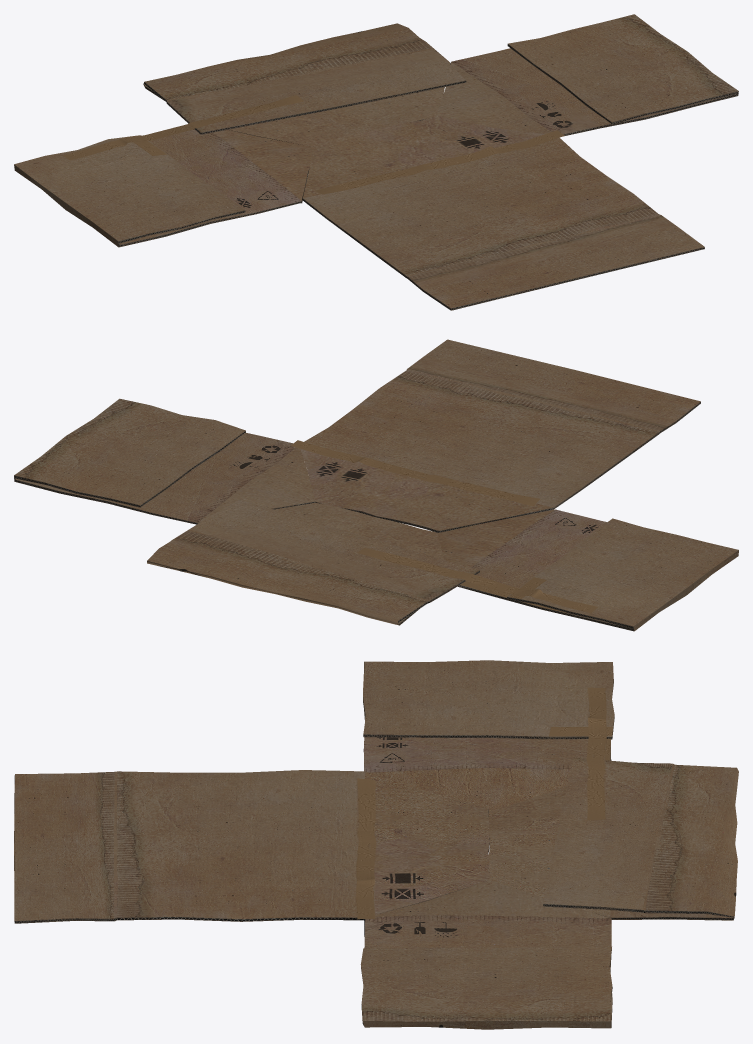
The model's file is SM_CardboardF.FBX.
The picture shows the model from 3 angles, top to bottom: view 1: azimuth 30°, elevation 25°; view 2: azimuth 150°, elevation 25°; view 3: azimuth 270°, elevation 25°; orthographic projection. The views are drawn at different scales.
Visible parts, largest first — view 1: SM_CardboardF_LOD0; view 2: SM_CardboardF_LOD0; view 3: SM_CardboardF_LOD0.
Boxes of the visible parts, x1,y1,x2,y2 form: SM_CardboardF_LOD0: (14, 14, 738, 310); SM_CardboardF_LOD0: (14, 339, 738, 631); SM_CardboardF_LOD0: (14, 660, 738, 1029).
Size of what is drawn, in the model's own units: 171 by 3.16 by 146.
